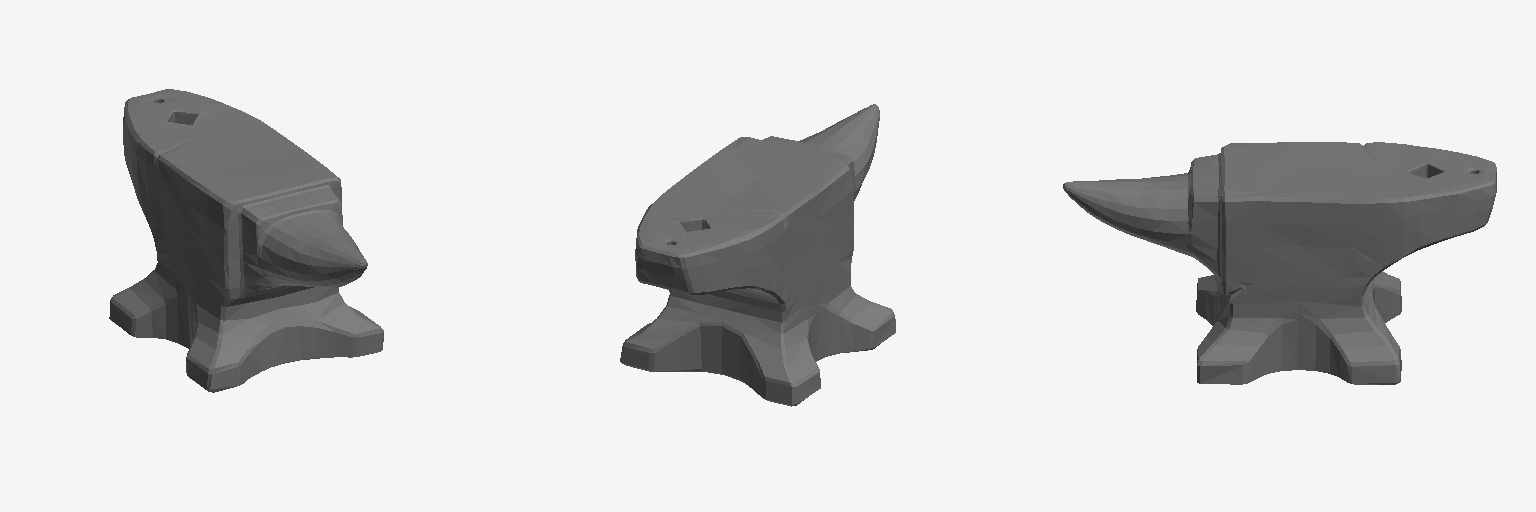
The model's file is Anvil.obj.
3 views of the same model, side by side, from view 1: azimuth 30°, elevation 25°; view 2: azimuth 150°, elevation 25°; view 3: azimuth 270°, elevation 25° (orthographic).
Parts seen in each view (by area): view 1: RetopoGroup1; view 2: RetopoGroup1; view 3: RetopoGroup1.
Part boxes in pixels (x1,y1,x2,y2): RetopoGroup1: (109,89,383,392); RetopoGroup1: (620,104,895,406); RetopoGroup1: (1063,142,1496,384).
Bounding box in the file's own units: 16.94 × 15.9 × 35.89.